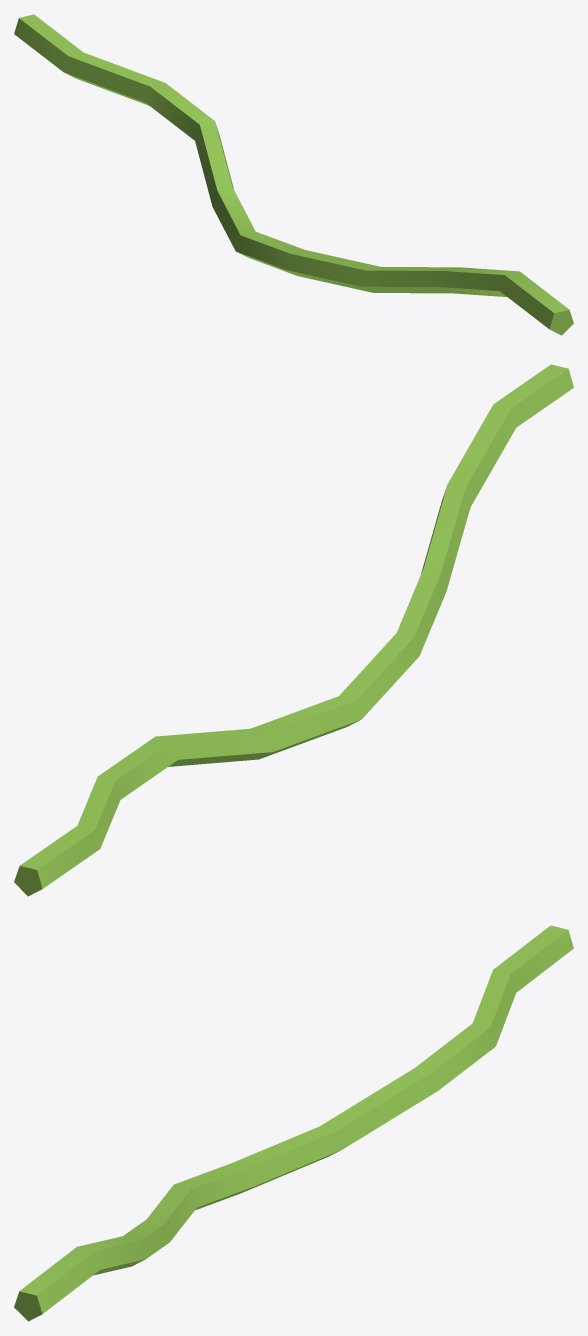
Rendered from mesh_Rebar3_v2.fbx.
3 renders of one model, top to bottom at view 1: azimuth 30°, elevation 25°; view 2: azimuth 150°, elevation 25°; view 3: azimuth 330°, elevation 25°, orthographic. The views are drawn at different scales.
Parts seen in each view (by area): view 1: mesh_Rebar3_v2_0; view 2: mesh_Rebar3_v2_0; view 3: mesh_Rebar3_v2_0.
Boxes of the visible parts, <box> form: mesh_Rebar3_v2_0: <box>14,14,573,335</box>; mesh_Rebar3_v2_0: <box>14,364,573,896</box>; mesh_Rebar3_v2_0: <box>14,925,573,1321</box>.
Size of the model in its own units: 15.19 by 18.33 by 145.
